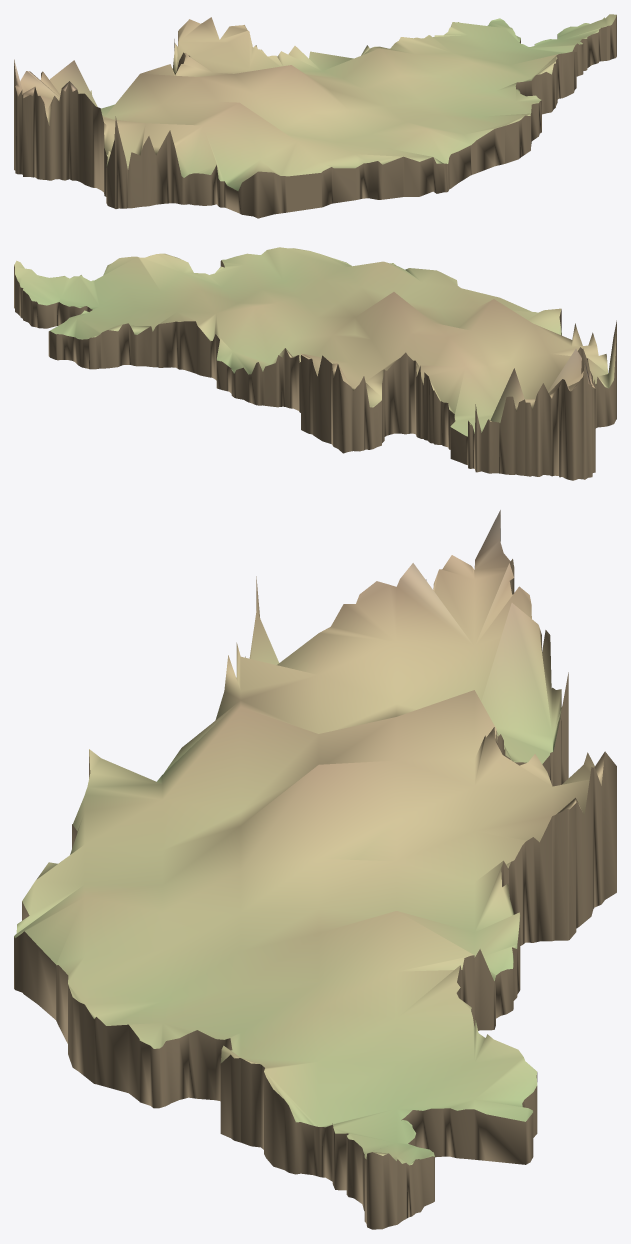
The model's file is MNG.glb.
3 views of the same model, one above another, from view 1: azimuth 30°, elevation 25°; view 2: azimuth 150°, elevation 25°; view 3: azimuth 270°, elevation 25° (orthographic). The views are drawn at different scales.
Visible parts, largest first — view 1: MNG; view 2: MNG; view 3: MNG.
Boxes of the visible parts, x1,y1,x2,y2 form: MNG: [14, 14, 616, 218]; MNG: [14, 247, 616, 480]; MNG: [14, 510, 616, 1229].
Size of the model in its own units: 1.81 by 0.338 by 0.8942.
